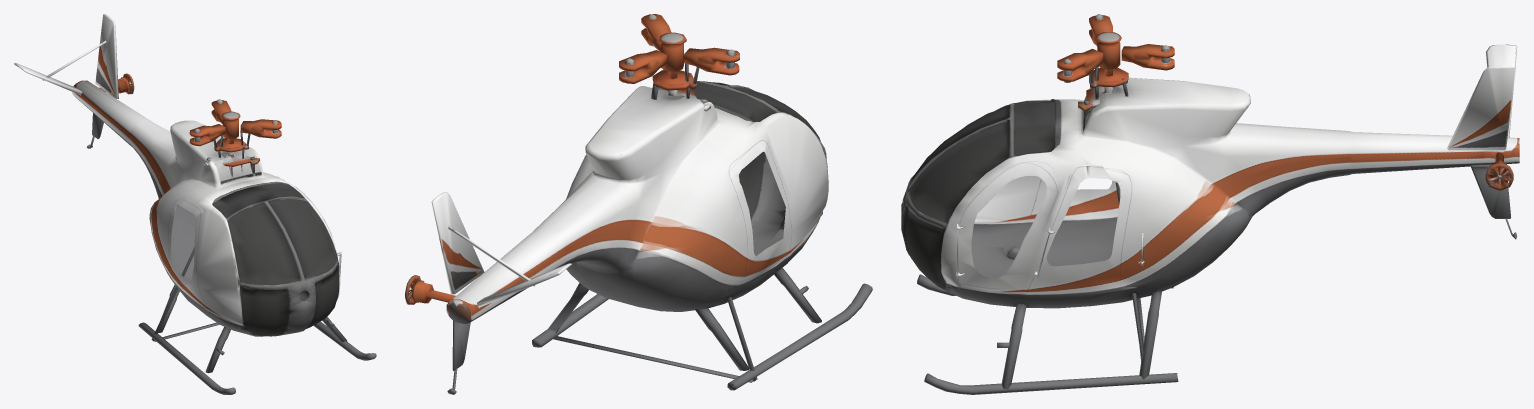
File: fuselage.glb
3 views of the same model, side by side, from view 1: azimuth 30°, elevation 25°; view 2: azimuth 150°, elevation 25°; view 3: azimuth 270°, elevation 25° (orthographic). The views are drawn at different scales.
Visible parts, largest first — view 1: Fuselage; view 2: Fuselage; view 3: Fuselage.
Boxes of the visible parts, <box> form: Fuselage: <box>14,14,376,394</box>; Fuselage: <box>405,14,872,394</box>; Fuselage: <box>901,14,1519,394</box>.
Size of the model in its own units: 0.3848 by 0.5488 by 0.998.
1 material, 1 textured.
